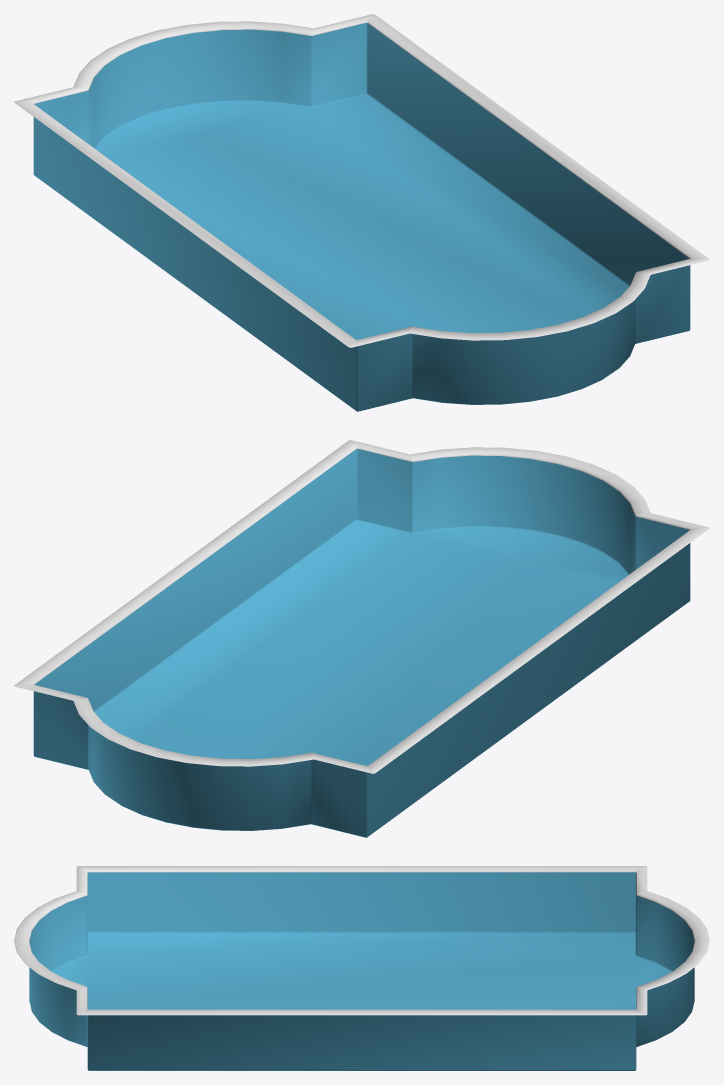
The model's file is Pool_1.2m.fbx.
3 views of the same model, one above another, from view 1: azimuth 30°, elevation 25°; view 2: azimuth 150°, elevation 25°; view 3: azimuth 270°, elevation 25° (orthographic). The views are drawn at different scales.
Visible parts, largest first — view 1: Pool12x6x1.2m; view 2: Pool12x6x1.2m; view 3: Pool12x6x1.2m.
Boxes of the visible parts, x1,y1,x2,y2 form: Pool12x6x1.2m: (14, 14, 709, 411); Pool12x6x1.2m: (14, 440, 709, 837); Pool12x6x1.2m: (14, 866, 709, 1070).
Size of the model in its own units: 648 by 125 by 1277.
